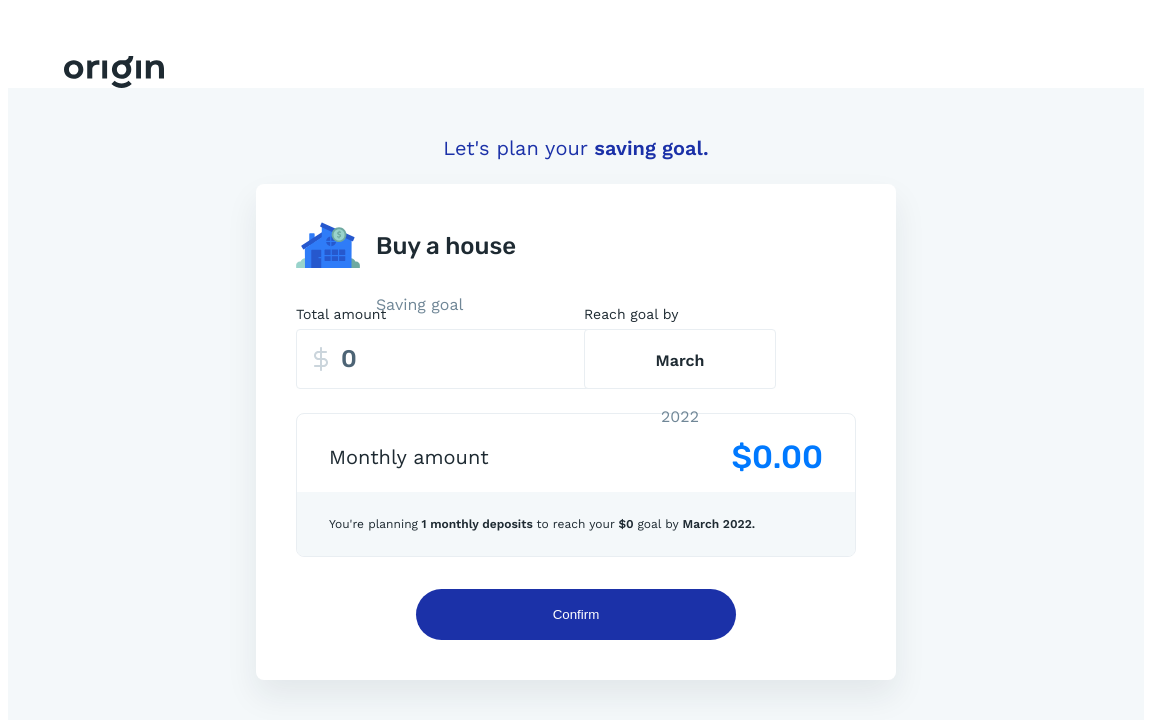
Test: App › DOM › should show the correctly monthly amount
Replace the text in the field named "amount" with "10000": (456, 359) [296,329,616,389]
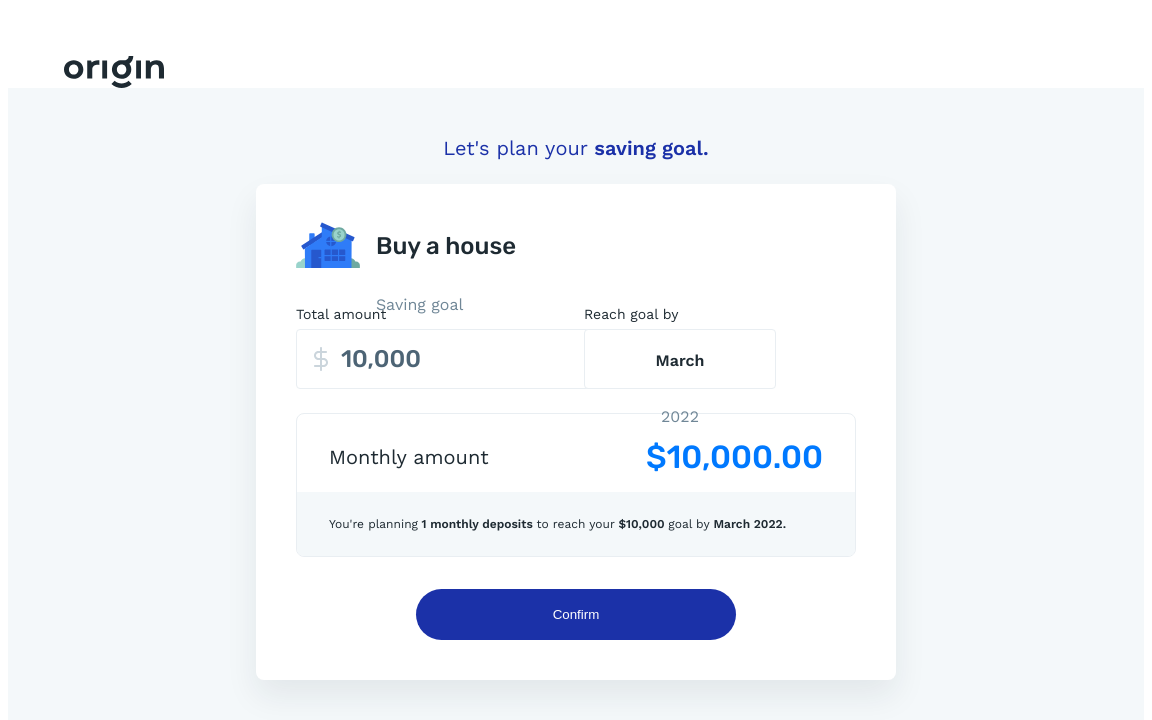
Press ArrowRight in the field named "reachDate", box [584,329,776,389]
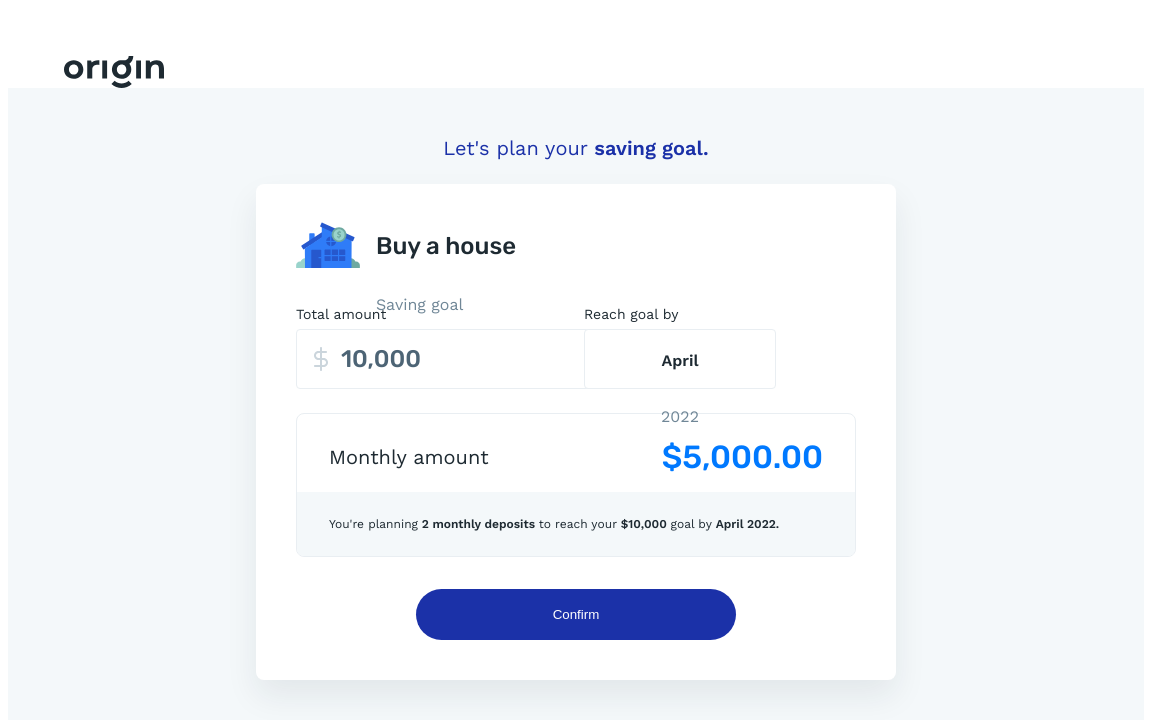
Press ArrowRight in the field named "reachDate", box [584,329,776,389]
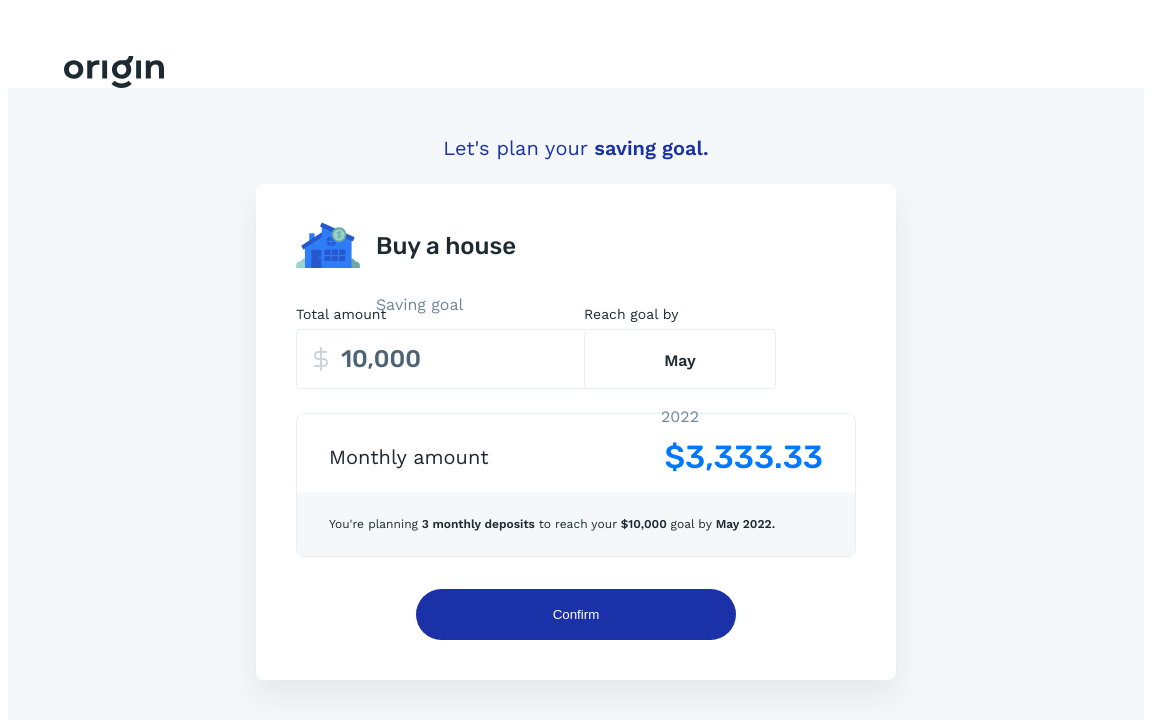
Press ArrowRight in the field named "reachDate", box [584,329,776,389]
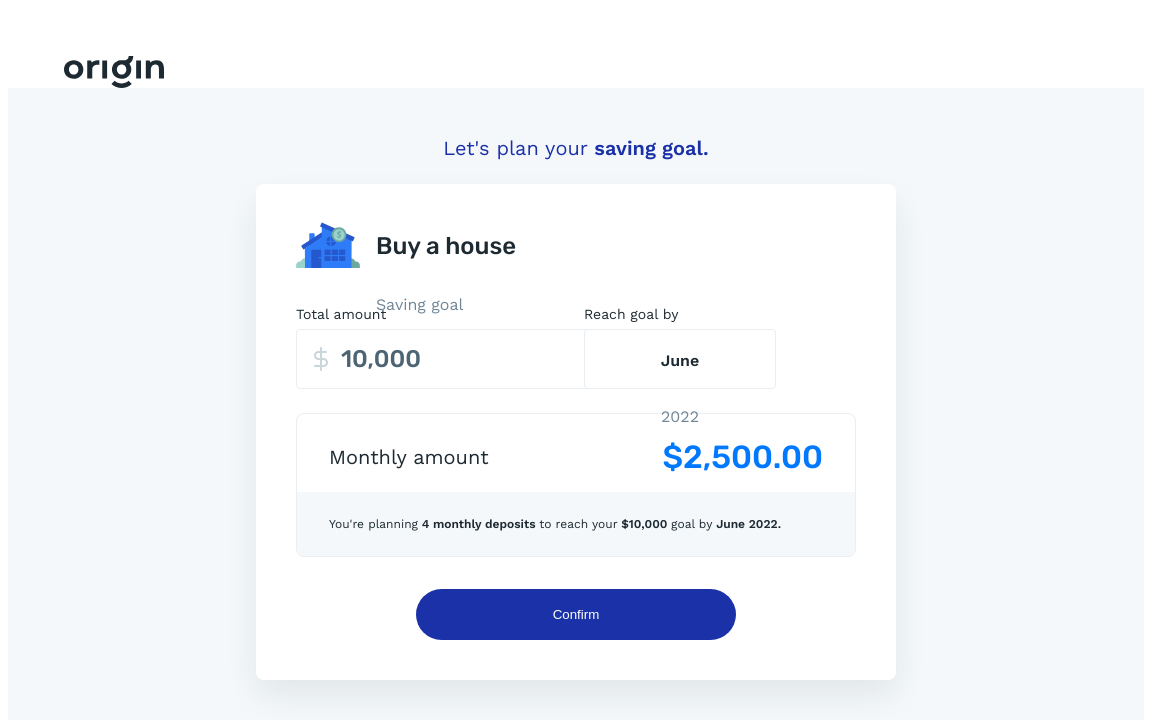
Result: the text with test id "monthlyAmount" reads "$2,500.00" at [662,438,823,476]
